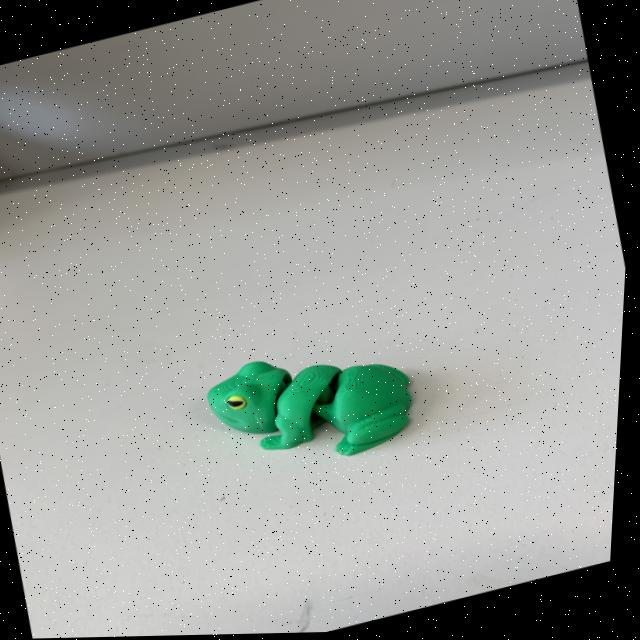frog: (171, 307, 437, 502)
